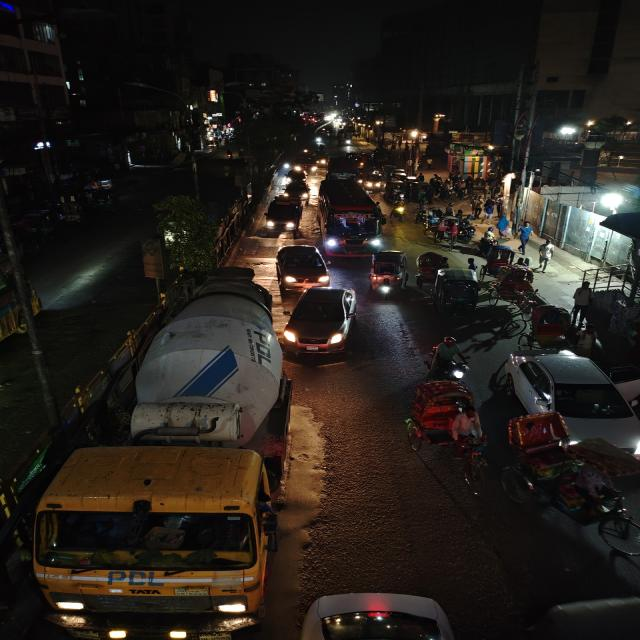bus: (316, 178, 385, 256)
car: (501, 348, 640, 456), (281, 284, 359, 358), (274, 243, 331, 289), (281, 182, 312, 200), (283, 169, 309, 185)
cng: (432, 268, 480, 318), (367, 248, 409, 300)
motorcycle: (427, 335, 471, 381)
pedestrian: (514, 220, 532, 254), (536, 241, 553, 273), (476, 230, 496, 256), (496, 212, 512, 238), (466, 255, 482, 278)
pickup_van: (262, 196, 306, 233)
rickshaw: (504, 412, 634, 534), (406, 377, 490, 489), (518, 302, 574, 350), (487, 266, 535, 306), (414, 250, 450, 288)
truck: (31, 275, 284, 632)
